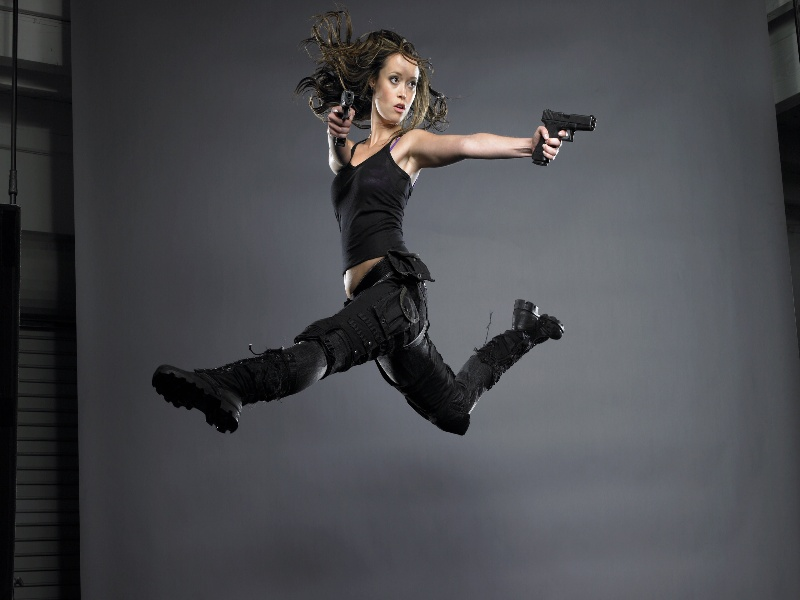person: (151, 5, 566, 435)
weapon: (532, 109, 597, 167), (340, 90, 354, 114)
